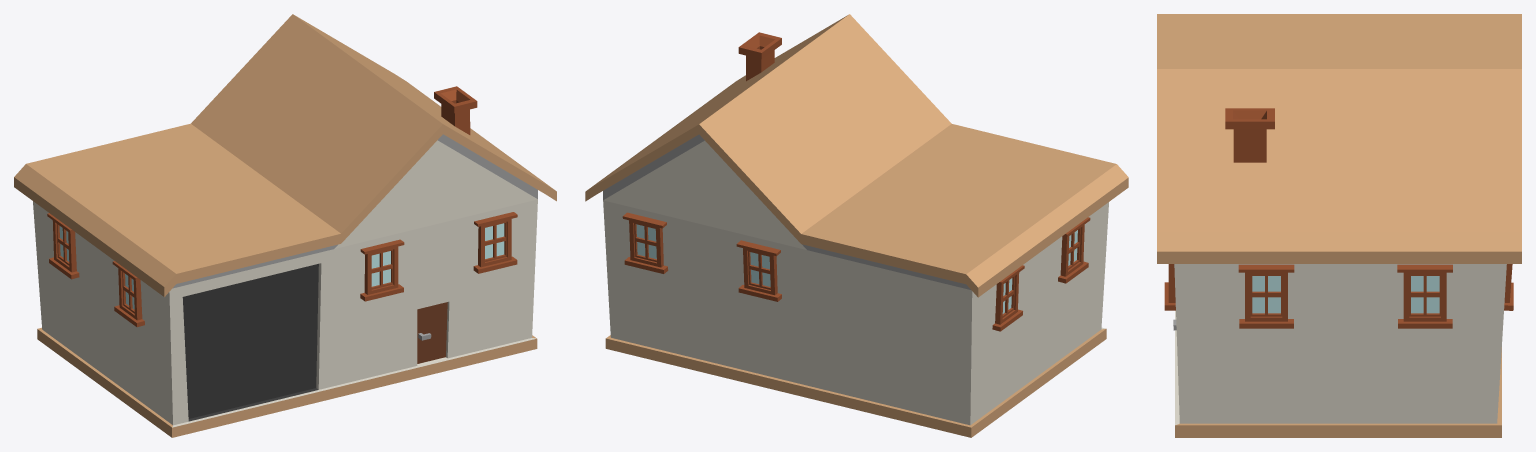
The model's file is House4.glb.
3 renders of one model, left to right at view 1: azimuth 30°, elevation 25°; view 2: azimuth 150°, elevation 25°; view 3: azimuth 270°, elevation 25°, orthographic. The views are drawn at different scales.
Visible parts, largest first — view 1: Cube.018; view 2: Cube.018; view 3: Cube.018.
Boxes of the visible parts, x1=… form: Cube.018: x1=14, y1=14, x2=556, y2=437; Cube.018: x1=585, y1=14, x2=1128, y2=437; Cube.018: x1=1157, y1=14, x2=1521, y2=437.
Bounding box in the file's own units: 21.64 × 13.43 × 14.36.
Materials: 1 (1 with a texture image).
